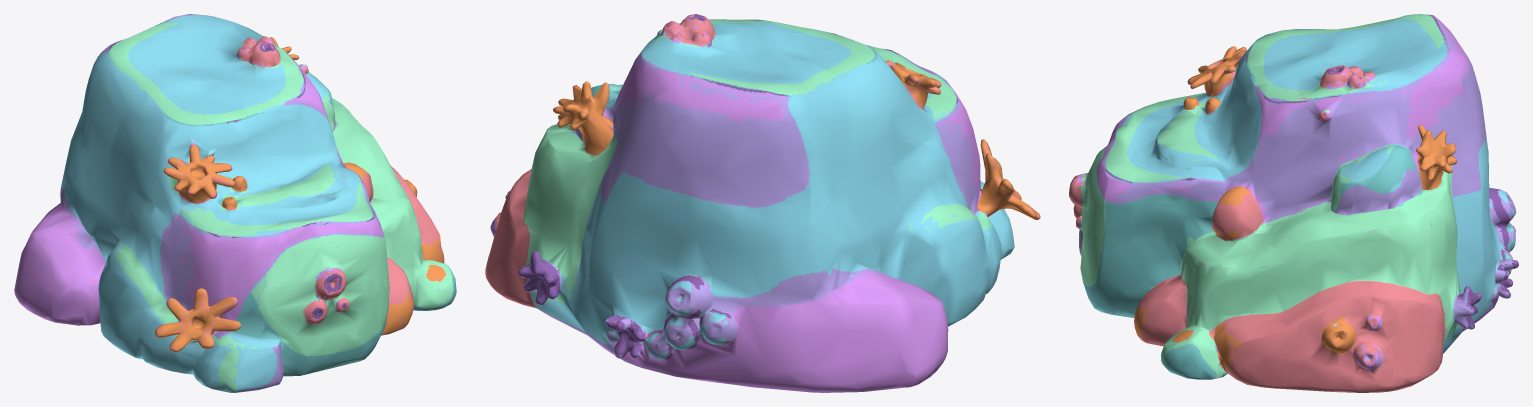
Rendered from rock_largea.glb.
The picture shows the model from 3 angles, left to right: view 1: azimuth 30°, elevation 25°; view 2: azimuth 150°, elevation 25°; view 3: azimuth 270°, elevation 25°; orthographic projection. The views are drawn at different scales.
Parts seen in each view (by area): view 1: Mesh_0; view 2: Mesh_0; view 3: Mesh_0.
Boxes of the visible parts, <box> form: Mesh_0: <box>14,14,456,392</box>; Mesh_0: <box>485,14,1040,392</box>; Mesh_0: <box>1069,14,1518,392</box>.
Size of the model in its own units: 1.9 by 1.12 by 1.84.
Materials: 1 (1 with a texture image).
